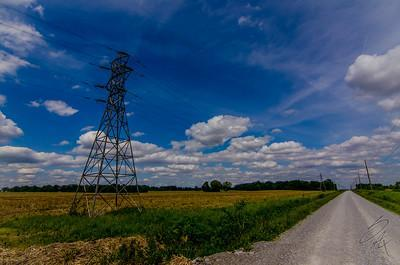power_tower: (68, 51, 145, 216)
